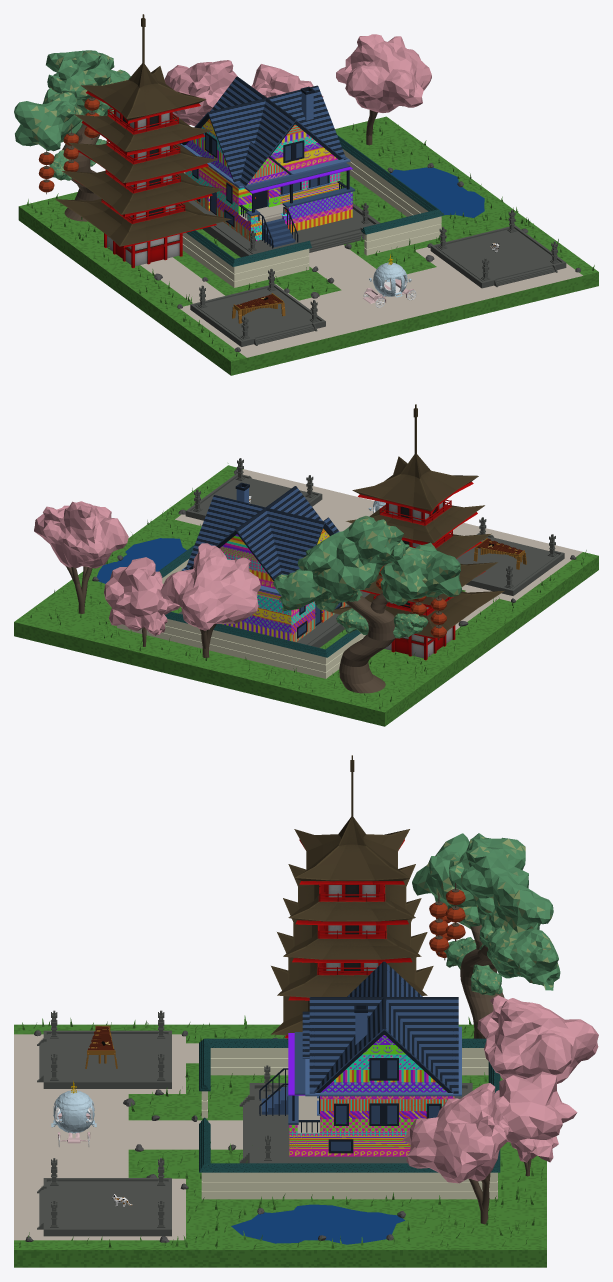
3 views of the same model, one above another, from view 1: azimuth 30°, elevation 25°; view 2: azimuth 150°, elevation 25°; view 3: azimuth 270°, elevation 25° (orthographic). The views are drawn at different scales.
Parts seen in each view (by area): view 1: Cube.005, Cube.676, VEHICLES_FANTASY_CARRIAGE, OBJRANDOM_MARIMBA; view 2: Cube.005, Cube.676, OBJRANDOM_MARIMBA; view 3: Cube.005, Cube.676, VEHICLES_FANTASY_CARRIAGE, OBJRANDOM_MARIMBA.
Boxes of the visible parts, left/top/right/bottom form: Cube.005: left=14, top=14, right=598, bottom=375; Cube.676: left=179, top=76, right=355, bottom=248; VEHICLES_FANTASY_CARRIAGE: left=363, top=254, right=416, bottom=307; OBJRANDOM_MARIMBA: left=232, top=293, right=285, bottom=323; Cube.005: left=14, top=404, right=598, bottom=726; Cube.676: left=181, top=482, right=347, bottom=641; OBJRANDOM_MARIMBA: left=473, top=538, right=526, bottom=569; Cube.005: left=14, top=755, right=598, bottom=1267; Cube.676: left=259, top=961, right=461, bottom=1156; VEHICLES_FANTASY_CARRIAGE: left=51, top=1081, right=96, bottom=1147; OBJRANDOM_MARIMBA: left=85, top=1025, right=117, bottom=1068.
Bounding box in the file's own units: 4528 × 2693 × 4389.
40 materials, 9 textured.
